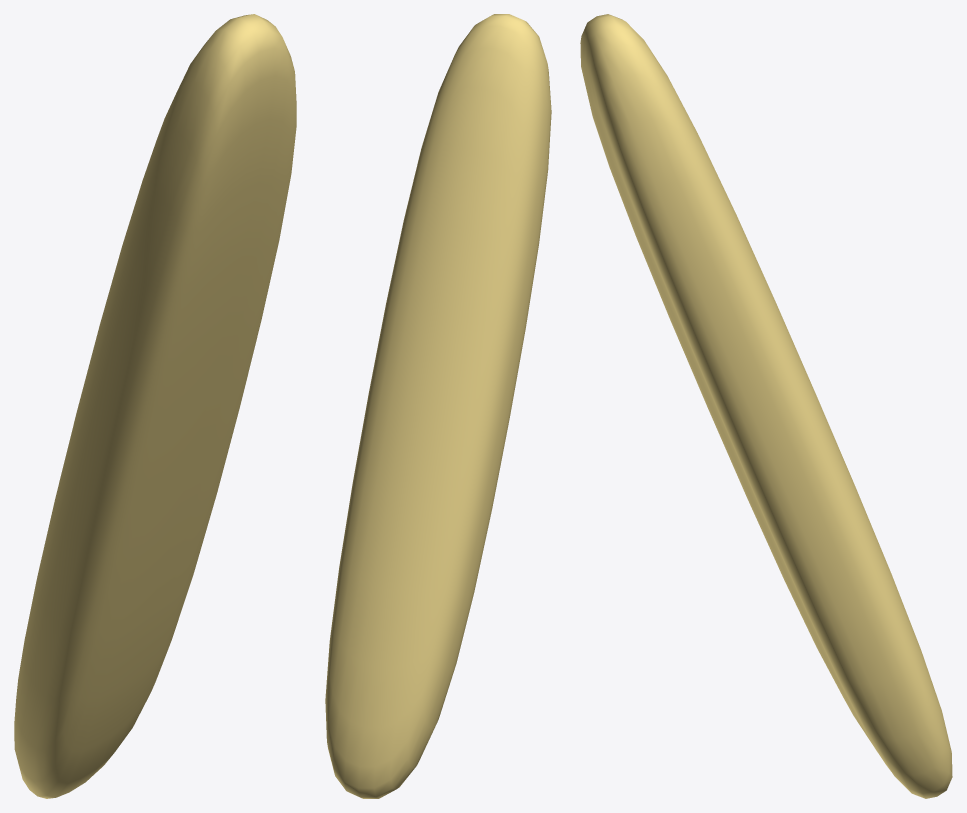
The picture shows the model from 3 angles, left to right: view 1: azimuth 30°, elevation 25°; view 2: azimuth 150°, elevation 25°; view 3: azimuth 270°, elevation 25°; orthographic projection. The views are drawn at different scales.
Visible parts, largest first — view 1: ZA_b78b6e96c3dffc7e; view 2: ZA_b78b6e96c3dffc7e; view 3: ZA_b78b6e96c3dffc7e.
Boxes of the visible parts, box(x1,y1,x2,y2) form: ZA_b78b6e96c3dffc7e: box(14, 14, 296, 798); ZA_b78b6e96c3dffc7e: box(325, 14, 551, 798); ZA_b78b6e96c3dffc7e: box(580, 14, 952, 798).
Size of the model in its own units: 0.00131 by 0.00738 by 0.00319.
